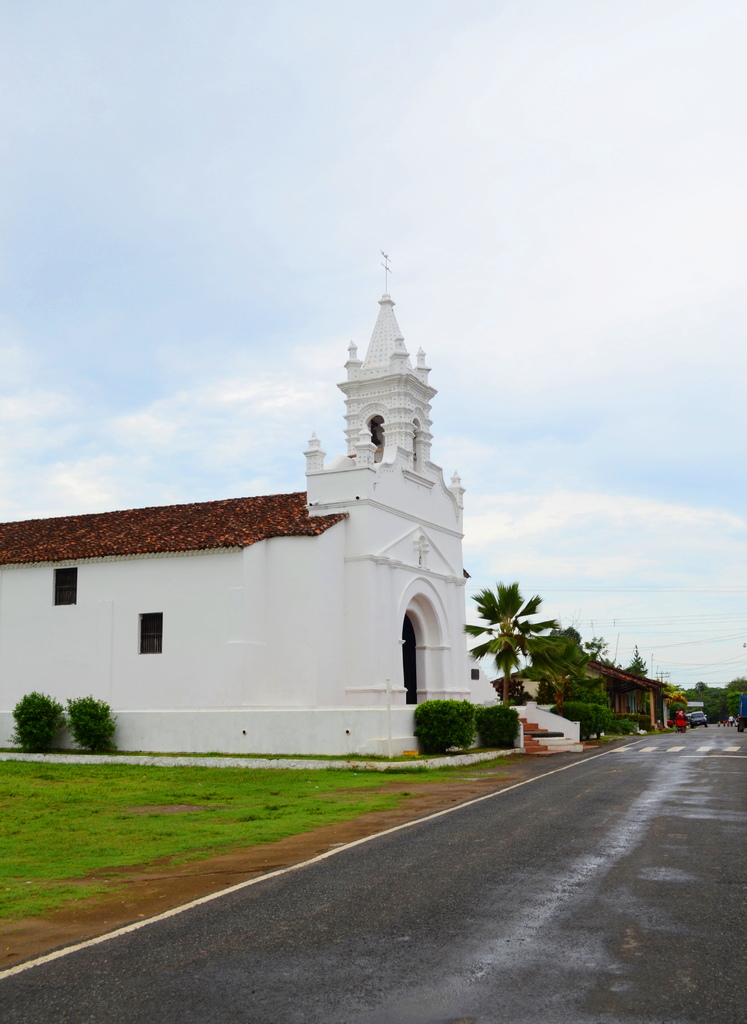Tree: (460, 580, 563, 707), (673, 673, 745, 733), (545, 624, 592, 661), (624, 638, 650, 677)
